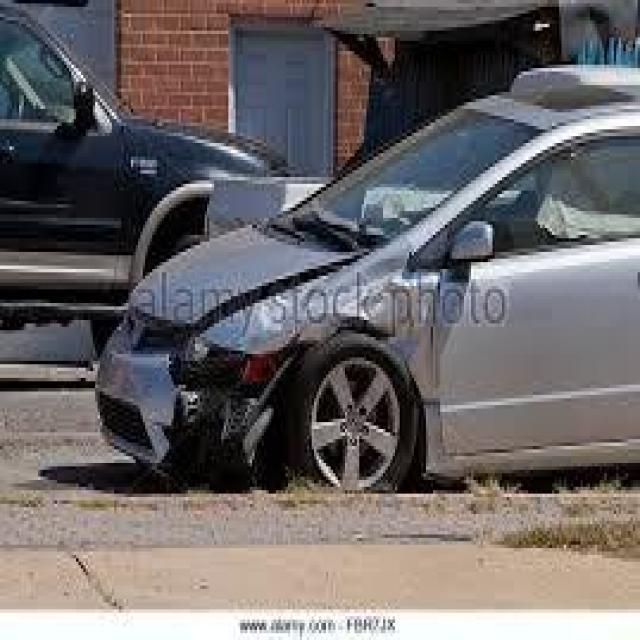damaged: (117, 266, 296, 484), (288, 258, 433, 358), (530, 160, 640, 245)
